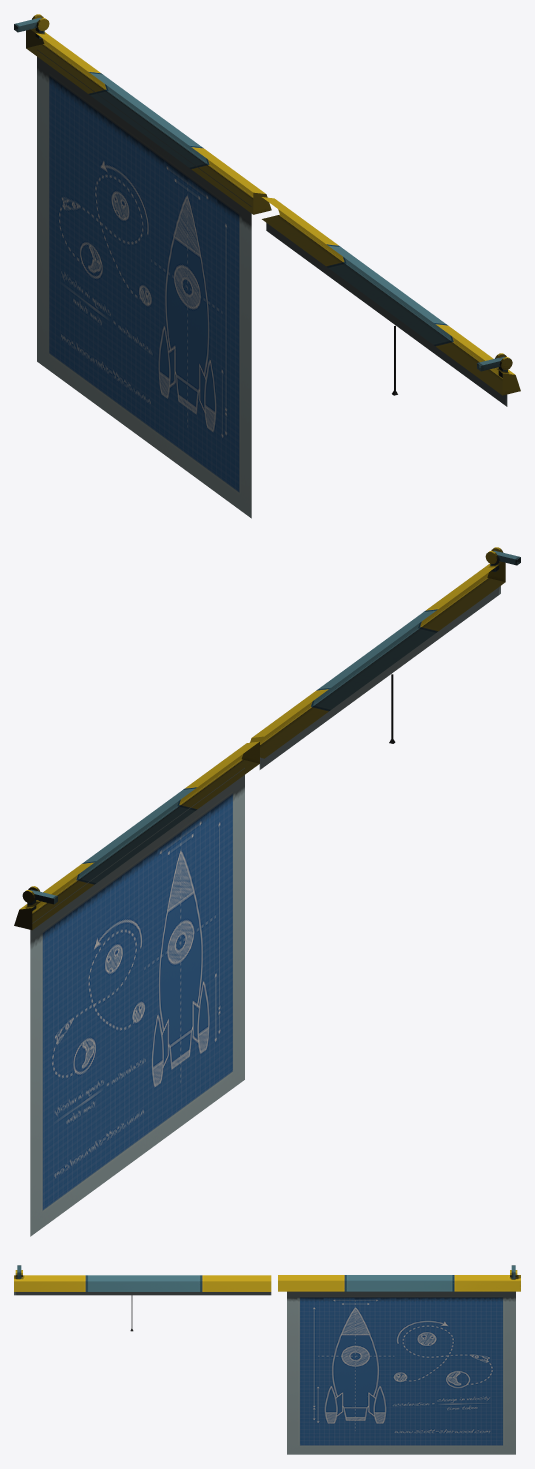
File: Tx_prop_projectorscreen_Engineering.fbx
The picture shows the model from 3 angles, top to bottom: view 1: azimuth 30°, elevation 25°; view 2: azimuth 150°, elevation 25°; view 3: azimuth 270°, elevation 25°; orthographic projection. The views are drawn at different scales.
Parts seen in each view (by area): view 1: Tx_prop_projectorscreen_Engineering; view 2: Tx_prop_projectorscreen_Engineering; view 3: Tx_prop_projectorscreen_Engineering.
Part boxes in pixels (x1=…): Tx_prop_projectorscreen_Engineering: x1=14, y1=14, x2=520, y2=518; Tx_prop_projectorscreen_Engineering: x1=14, y1=547, x2=520, y2=1236; Tx_prop_projectorscreen_Engineering: x1=14, y1=1265, x2=520, y2=1454.
Bounding box in the file's own units: 1.57 × 14.12 × 35.1.
